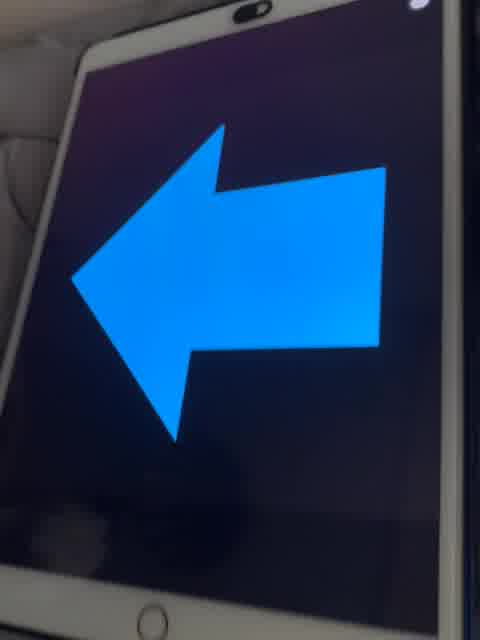left: (60, 117, 401, 456)
